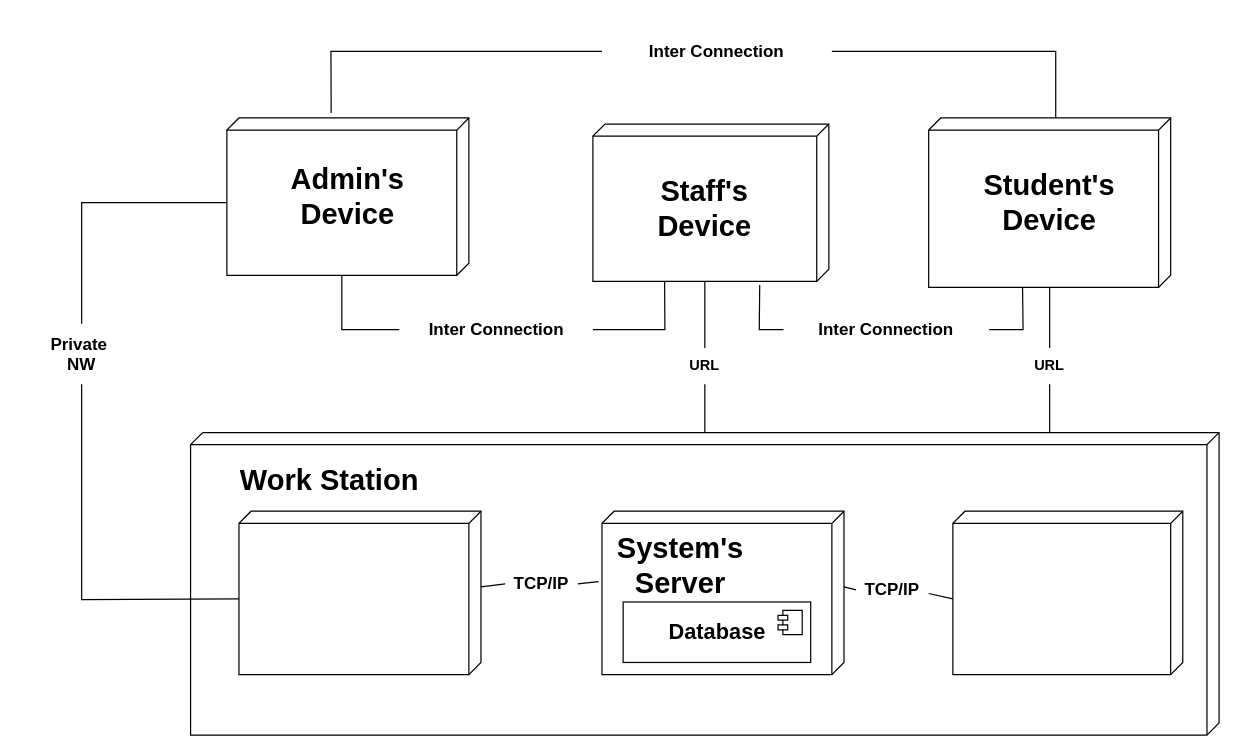
The diagram is 1240 pixels wide and 756 high, and some of its shapes have lost their labels. The centre of each missing label's shape, as x and y in pixels:
"College System" belongs at (359,592).
"Printer" belongs at (1067,592).
